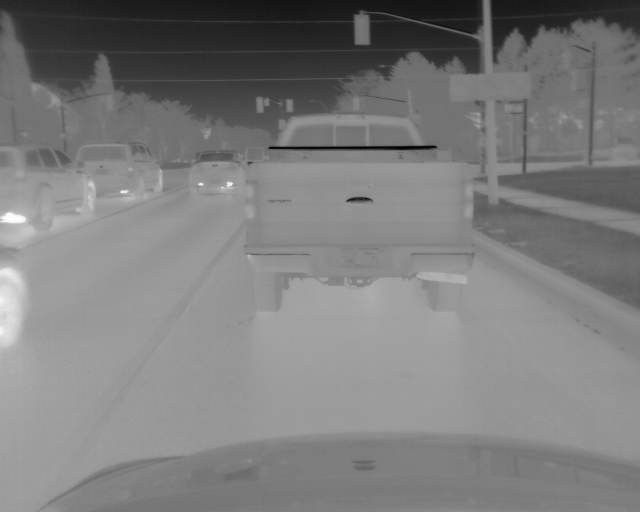car: (242, 113, 474, 312), (1, 144, 98, 235), (72, 140, 163, 203), (1, 248, 32, 355), (188, 148, 249, 197)
